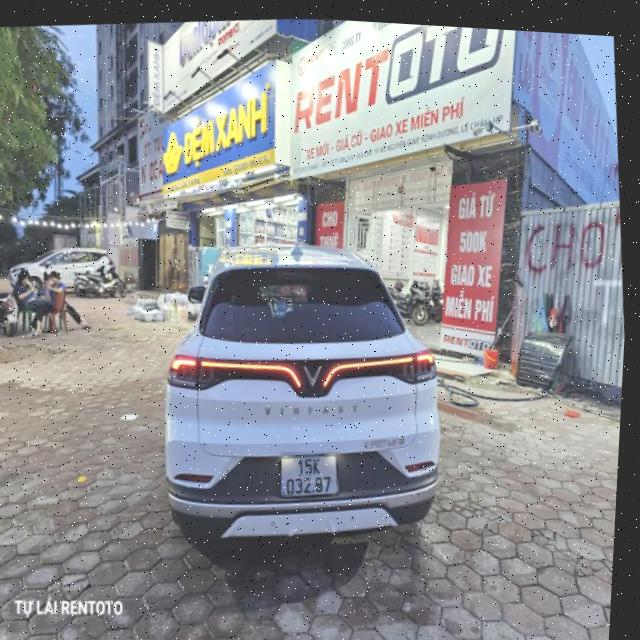car: (144, 233, 463, 587), (4, 231, 129, 310)
motorcycle: (67, 256, 132, 305)
plate: (271, 447, 346, 505)
